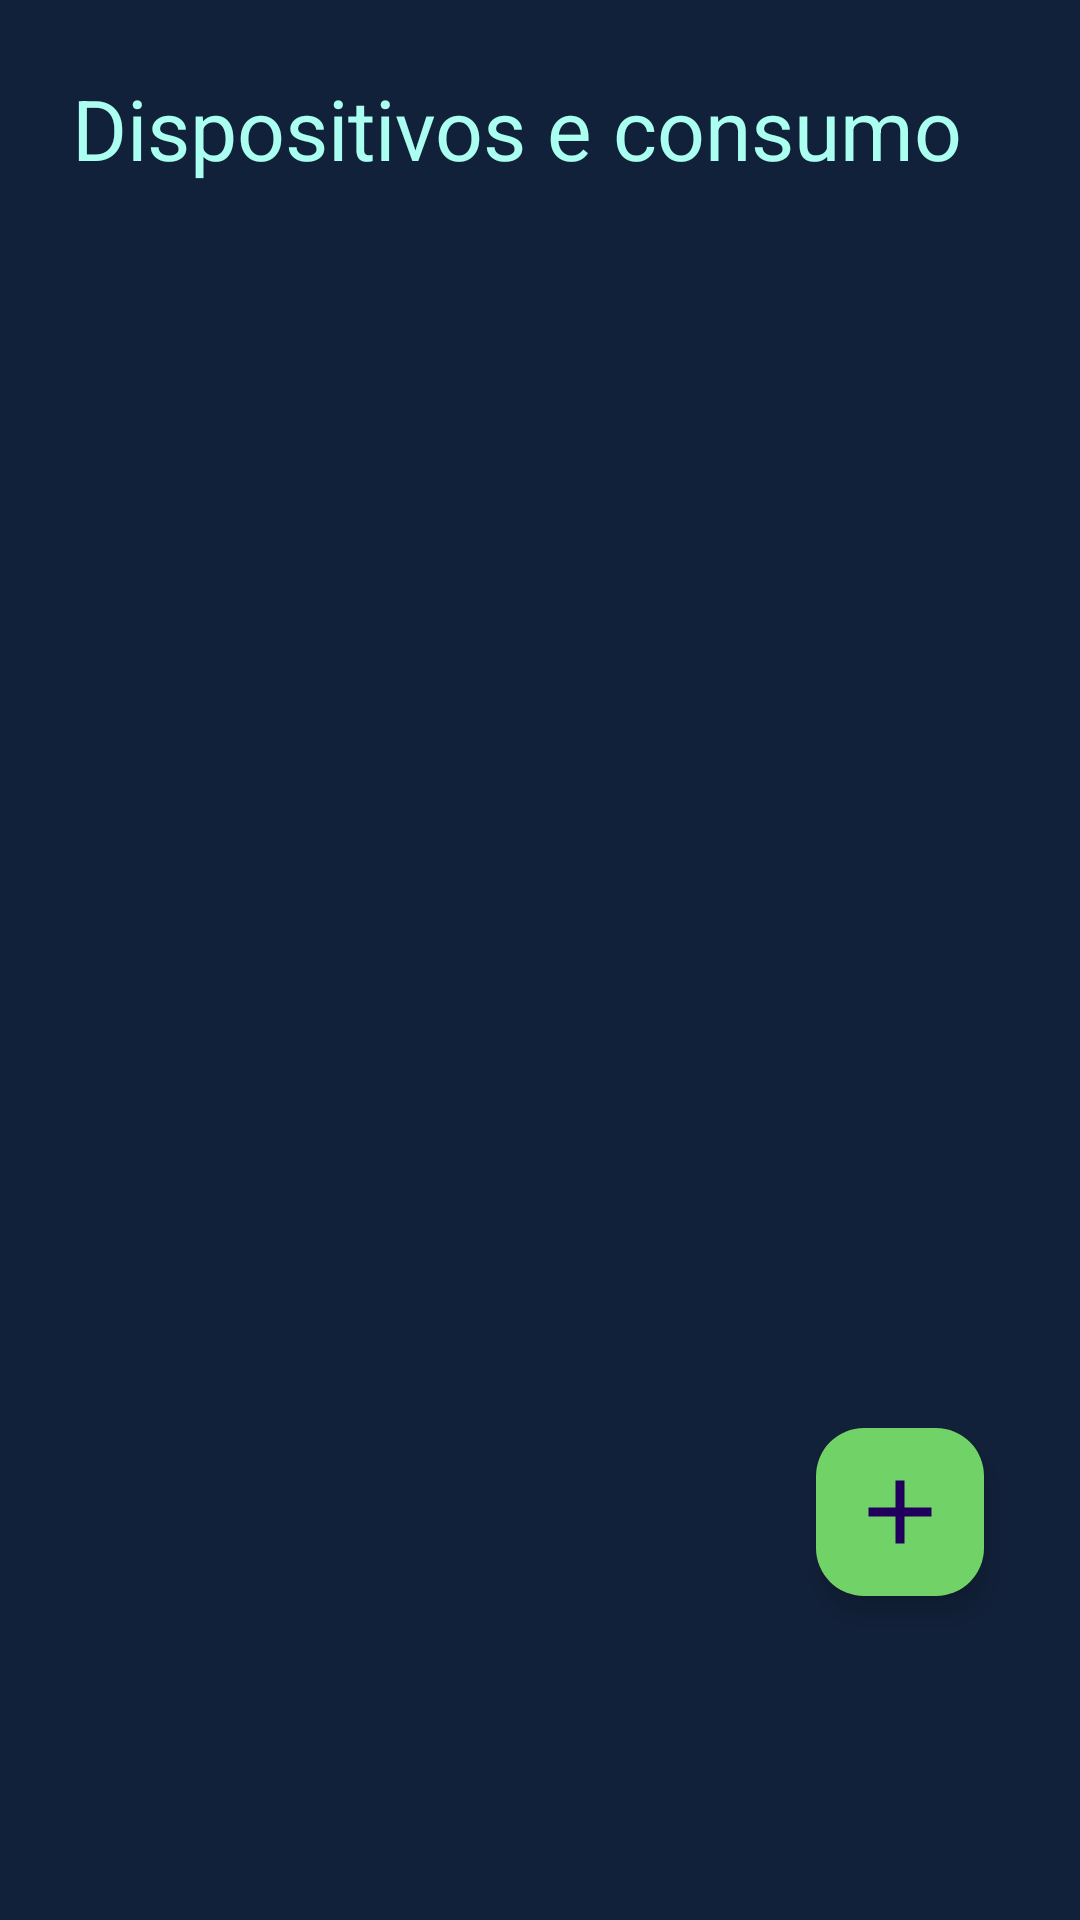

Screen size 1080px×1920px. Icon name, then its box in pixels as (x1, y1, x2, y2):
add: (816, 1428, 984, 1596)
